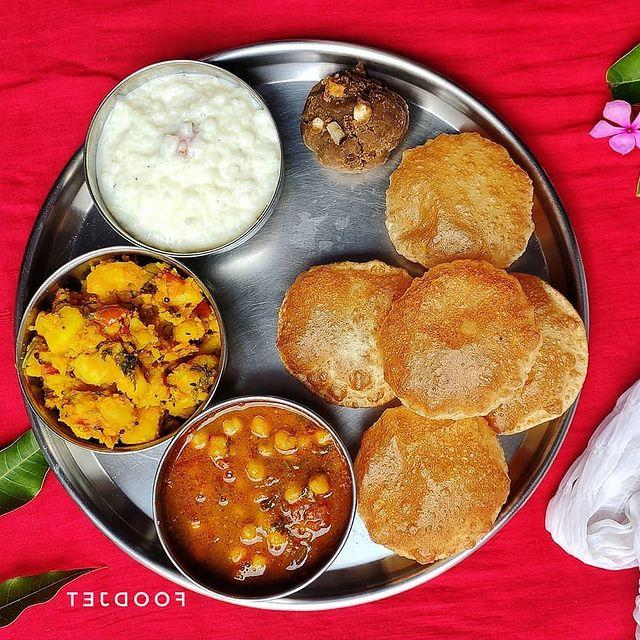Chole: (162, 405, 345, 584)
